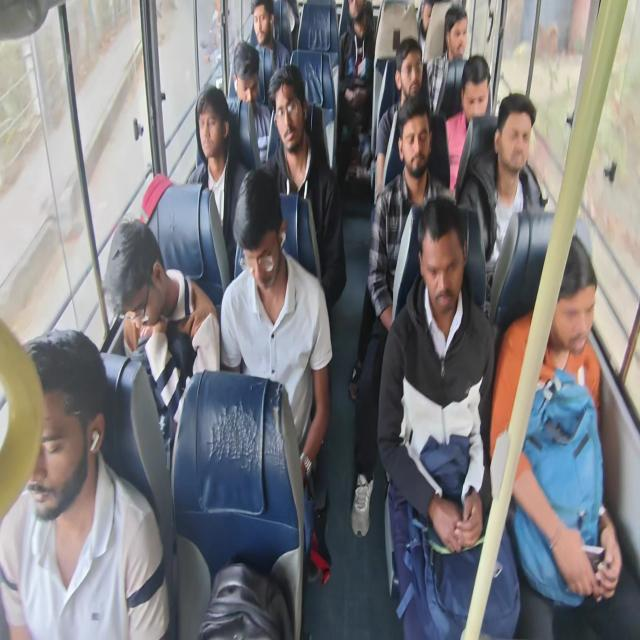person: (10, 346, 108, 511), (104, 212, 163, 330), (547, 265, 601, 365), (236, 197, 288, 297), (418, 225, 464, 312), (190, 105, 225, 165), (504, 100, 529, 174), (400, 116, 430, 176), (272, 90, 300, 147), (233, 56, 260, 110), (247, 0, 276, 49), (462, 70, 486, 125), (399, 55, 424, 100), (344, 0, 370, 38), (449, 17, 468, 59)
